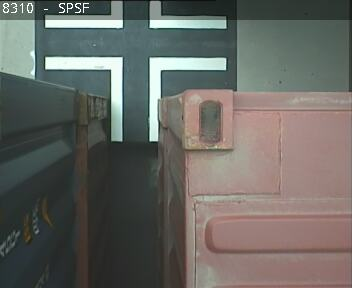groundmarker_1: (44, 53, 224, 142), (45, 1, 226, 29)
